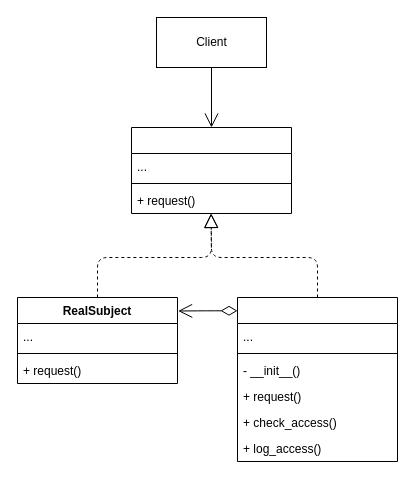
Some shapes in this 415 by 482 pixel diagram are drawn without their labels. The shapes that lost their labels are listed below. From the top down, each one's box as (x1, y1, x2, y2) in pixels, then its label:
(130, 126, 292, 214): Subject
(236, 296, 398, 462): Proxy
